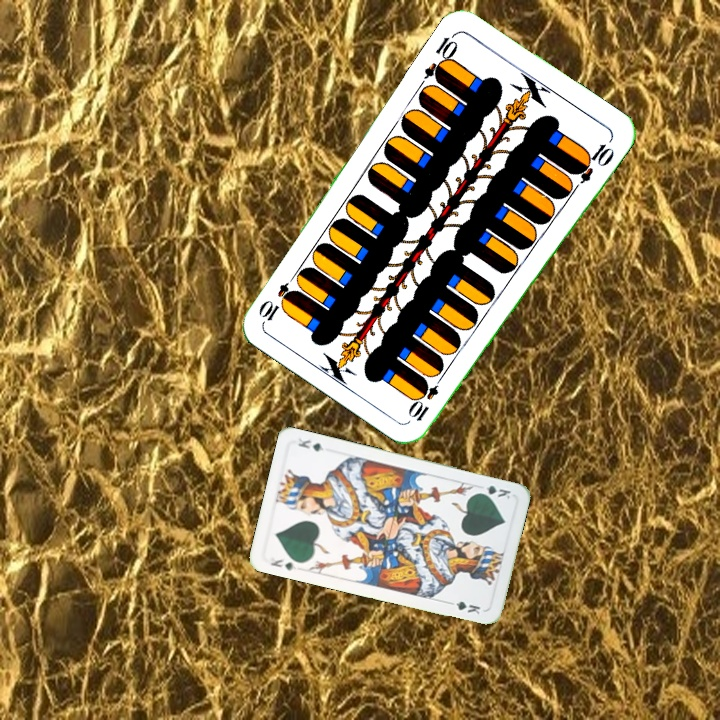E10: (420, 28, 461, 85), (406, 369, 447, 424)
GK: (473, 481, 513, 501), (266, 554, 298, 573)
